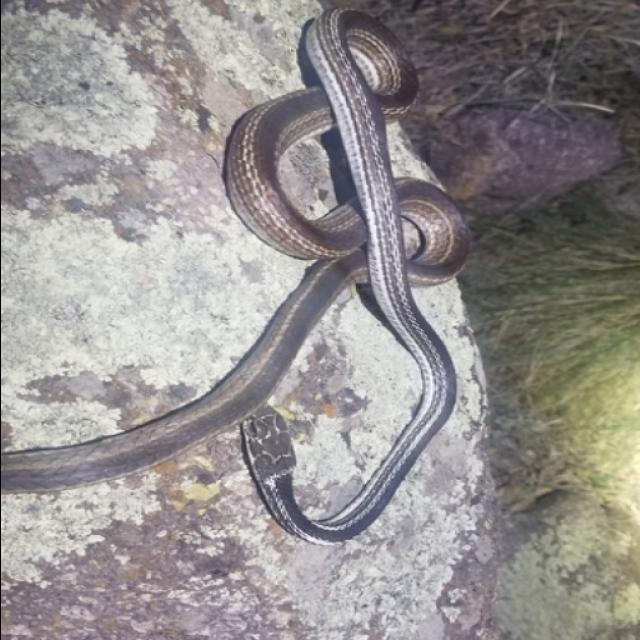snake: (0, 0, 481, 564)
